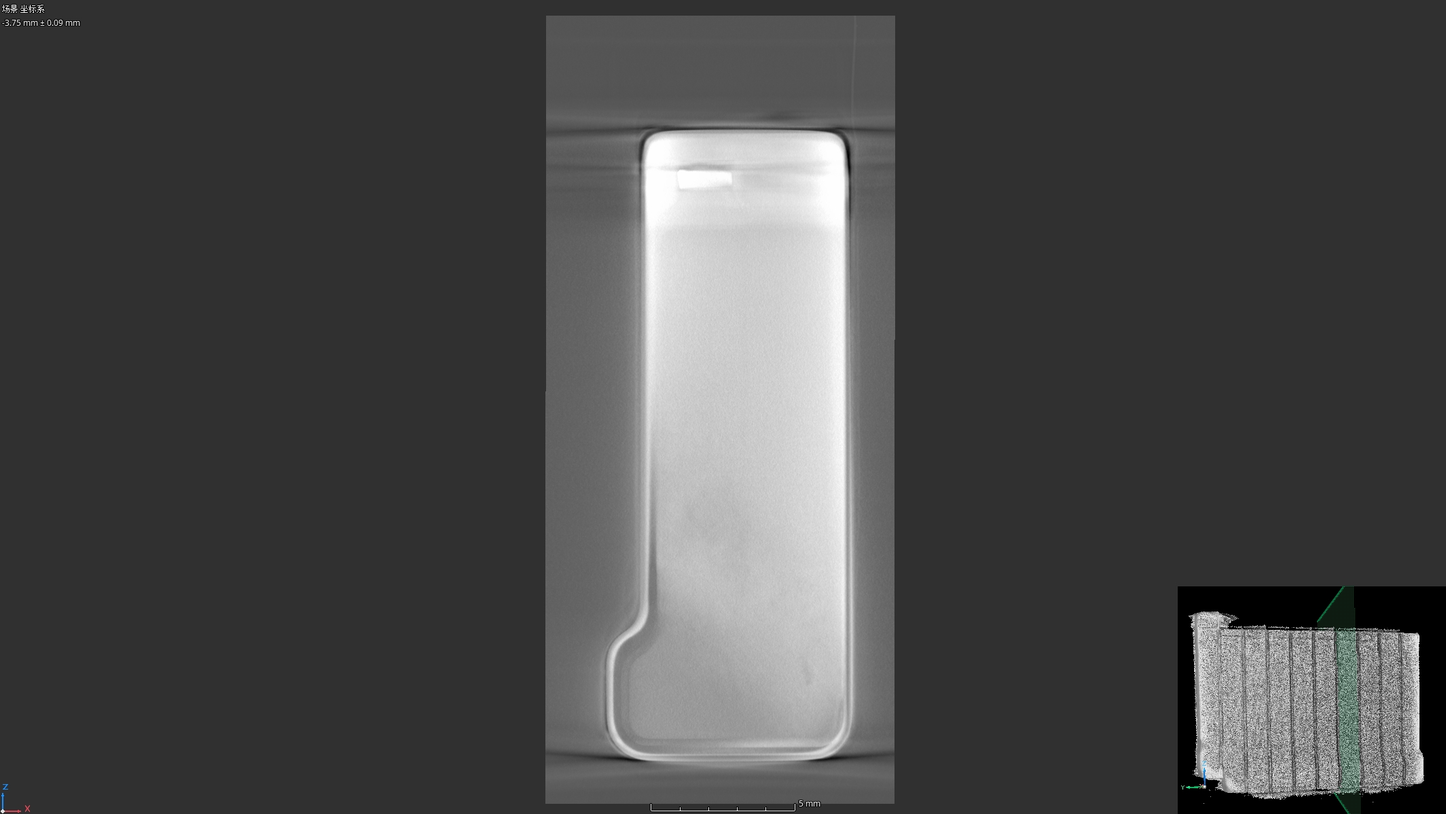dark: (798, 665, 816, 690)
